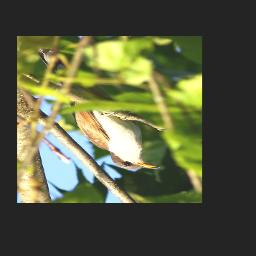Cuckoo: (33, 45, 164, 173)
